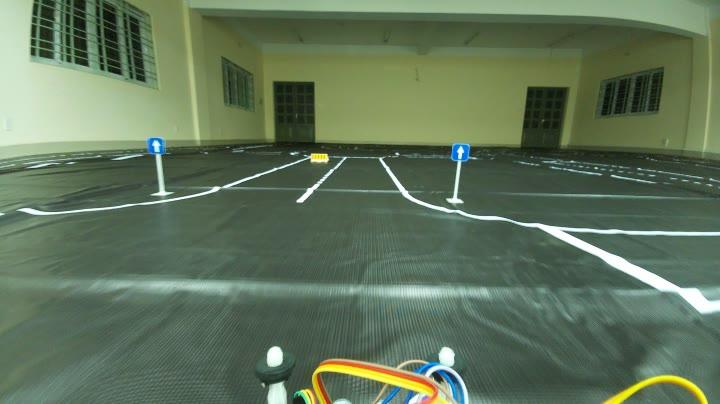onewayroad: (146, 135, 172, 162), (446, 142, 474, 164)
roadblock: (308, 149, 328, 164)
